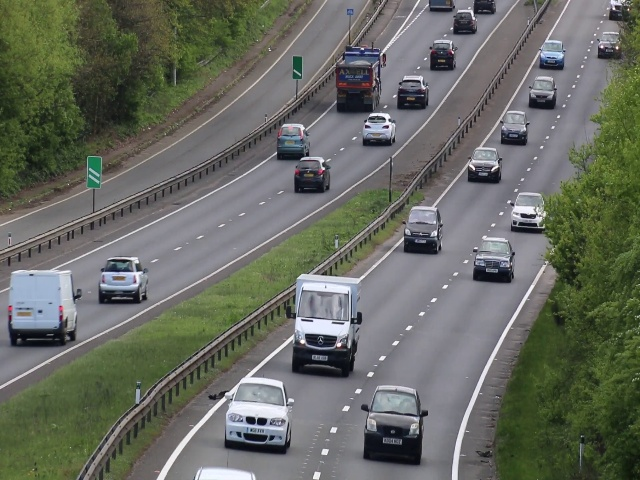car: (292, 273, 357, 377), (8, 267, 84, 348), (223, 374, 293, 456), (363, 382, 425, 466), (335, 46, 387, 113), (98, 254, 153, 299), (402, 204, 443, 254), (472, 234, 514, 282), (293, 155, 333, 193), (465, 145, 504, 183), (274, 123, 313, 158), (510, 192, 546, 229), (360, 110, 398, 143), (395, 74, 430, 109), (499, 108, 529, 145), (427, 37, 456, 72), (529, 75, 557, 110), (540, 37, 565, 72), (598, 29, 621, 61), (451, 8, 477, 35)
